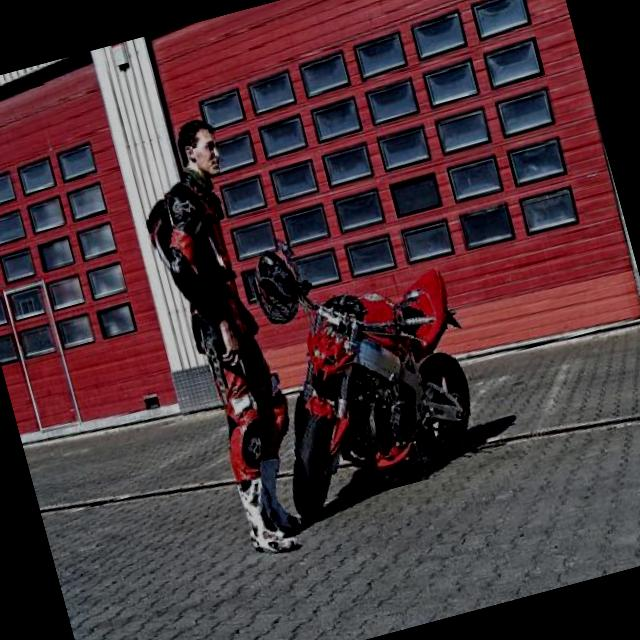Person: (119, 112, 324, 564)
